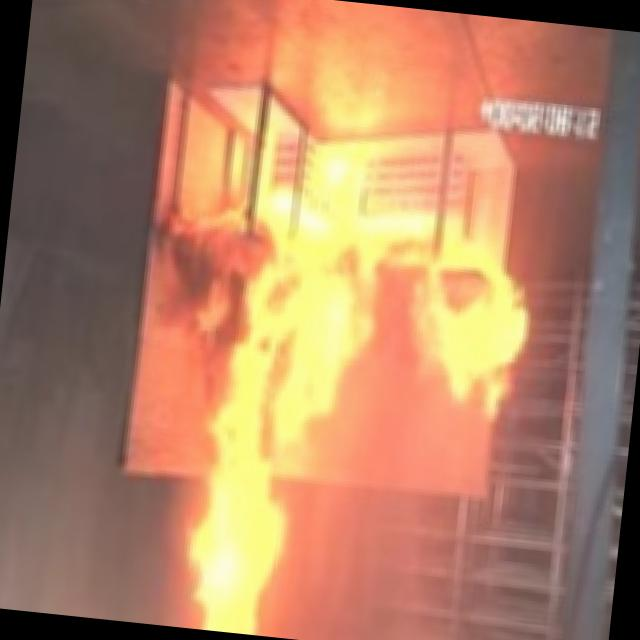fire: (115, 91, 548, 640)
